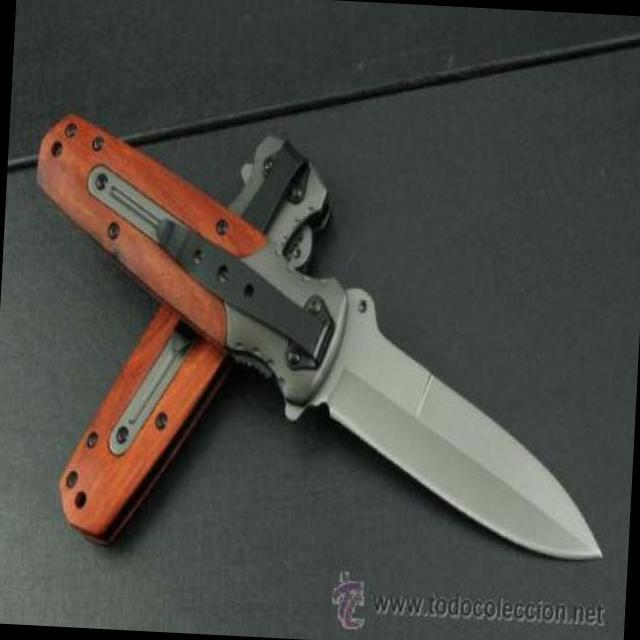Knife: (322, 334, 618, 566)
